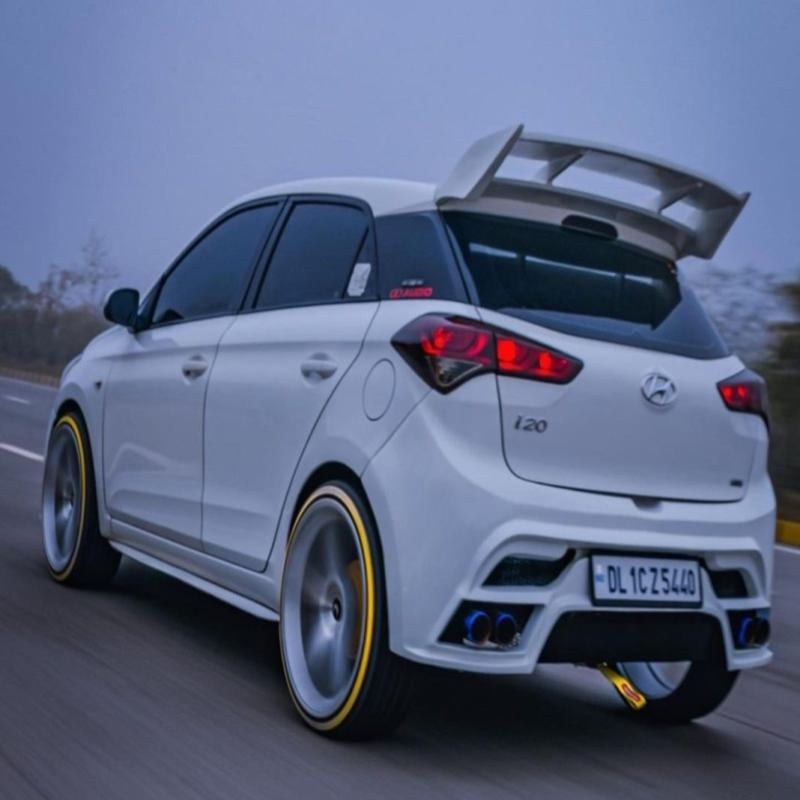car: (5, 138, 784, 731)
